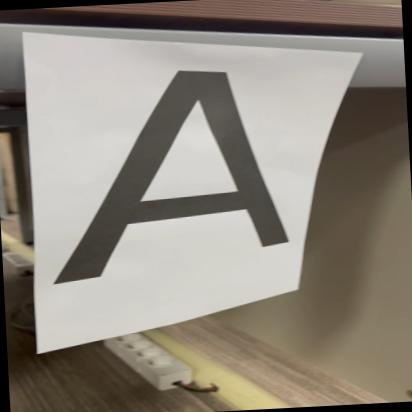seat: (33, 48, 310, 290)
